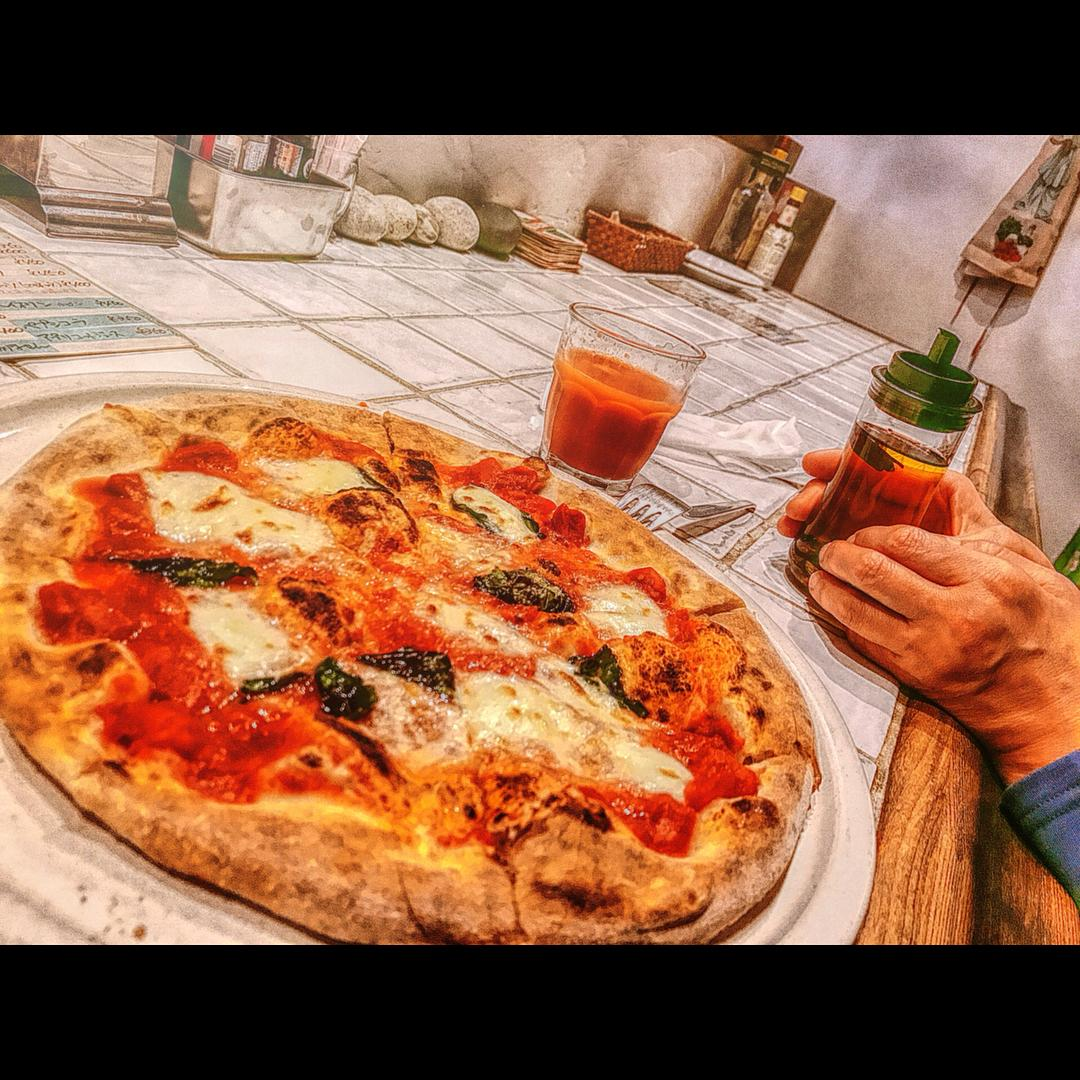Basil: (232, 654, 382, 725), (87, 544, 267, 597), (345, 634, 465, 708), (461, 557, 586, 622), (572, 637, 650, 732), (448, 485, 554, 554)
Pizza: (0, 388, 823, 943)
